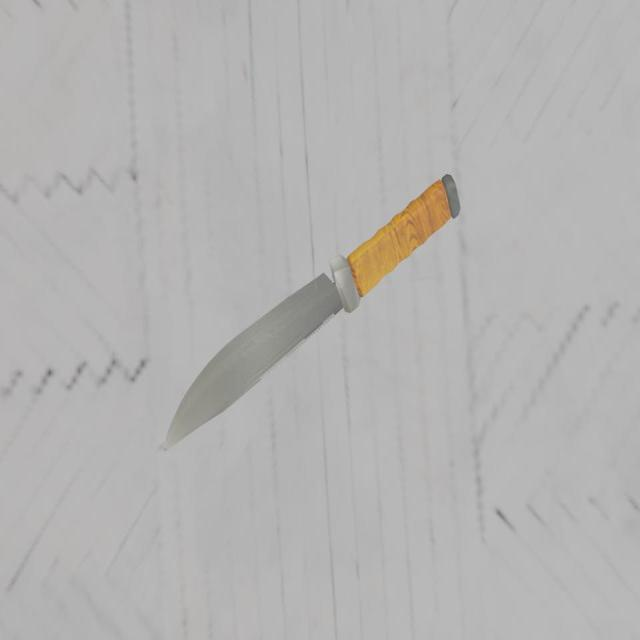knife: (334, 182, 461, 306)
